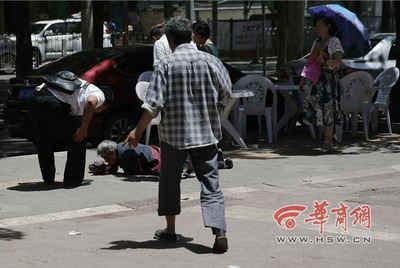Fall-Detected: (86, 132, 172, 178)
